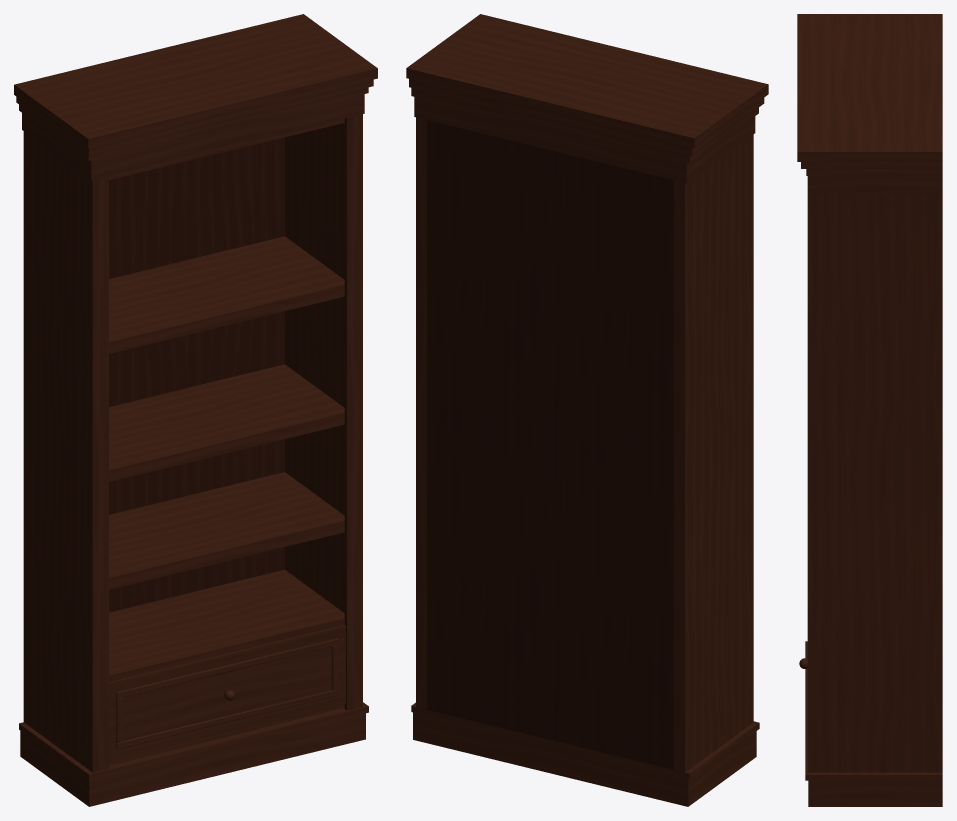
Rendered from libreria.glb.
3 renders of one model, left to right at view 1: azimuth 30°, elevation 25°; view 2: azimuth 150°, elevation 25°; view 3: azimuth 270°, elevation 25°, orthographic. The views are drawn at different scales.
Visible parts, largest first — view 1: libreria; view 2: libreria; view 3: libreria.
Boxes of the visible parts, bbox=[...] form: libreria: bbox=[14, 14, 377, 806]; libreria: bbox=[406, 14, 768, 806]; libreria: bbox=[797, 14, 942, 806].
Bounding box in the file's own units: 0.9 × 2 × 0.4.
Materials: 2 (2 with a texture image).
